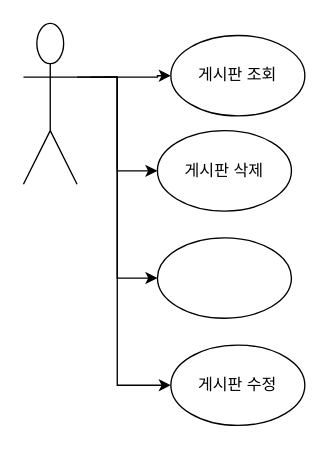
Some shapes in this 328 by 449 pixel diagram are drawn without their labels. The shapes that lost their labels are listed below. From the top down, each one's centre as x and y in pixels, then its label:
point 49,103: 고객
point 223,277: 게시판 상세 조회
